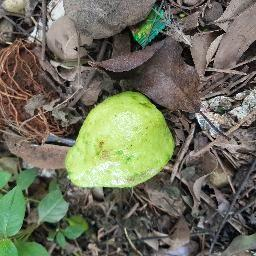guava: (64, 90, 179, 193)
